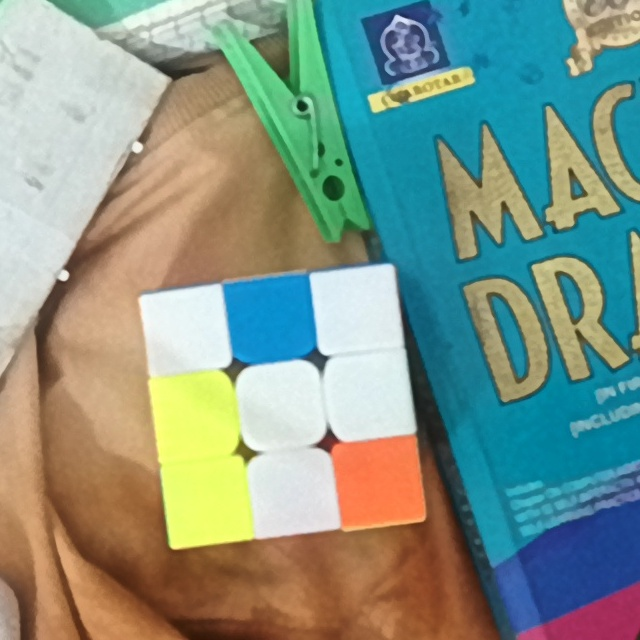tile: (342, 448, 417, 516), (319, 278, 395, 343), (153, 296, 222, 367), (332, 363, 403, 432), (260, 457, 329, 528), (170, 468, 241, 535), (231, 286, 306, 349), (159, 383, 230, 449), (246, 376, 318, 440)
